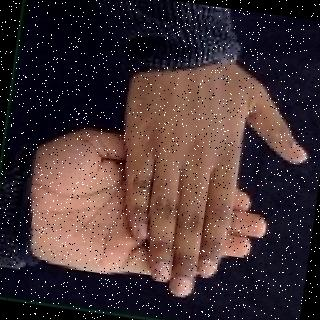H: (23, 38, 318, 320)
